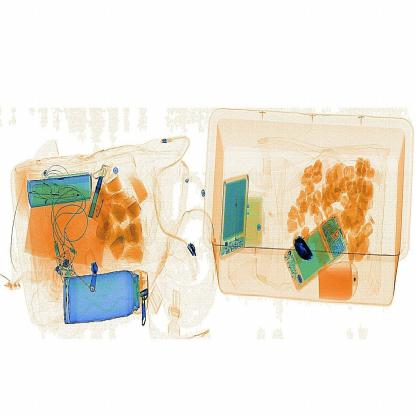scissors: (288, 228, 327, 269)
